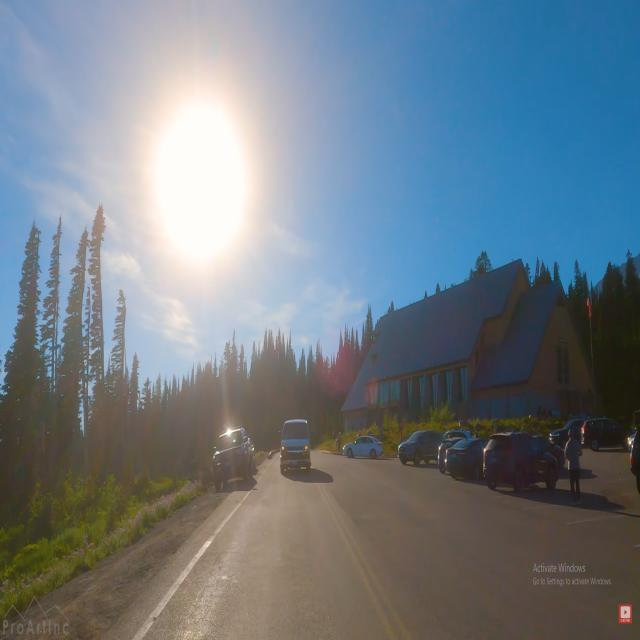sun: (120, 58, 292, 294)
